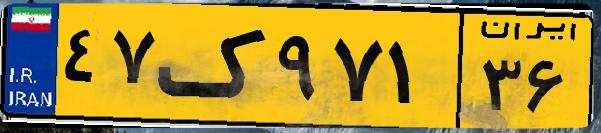1: (385, 28, 445, 110)
3: (475, 38, 525, 113)
4: (57, 26, 110, 100)
6: (525, 38, 570, 115)
7: (330, 28, 385, 110), (110, 28, 158, 98)
9: (270, 28, 330, 110)
ک: (158, 12, 270, 120)
